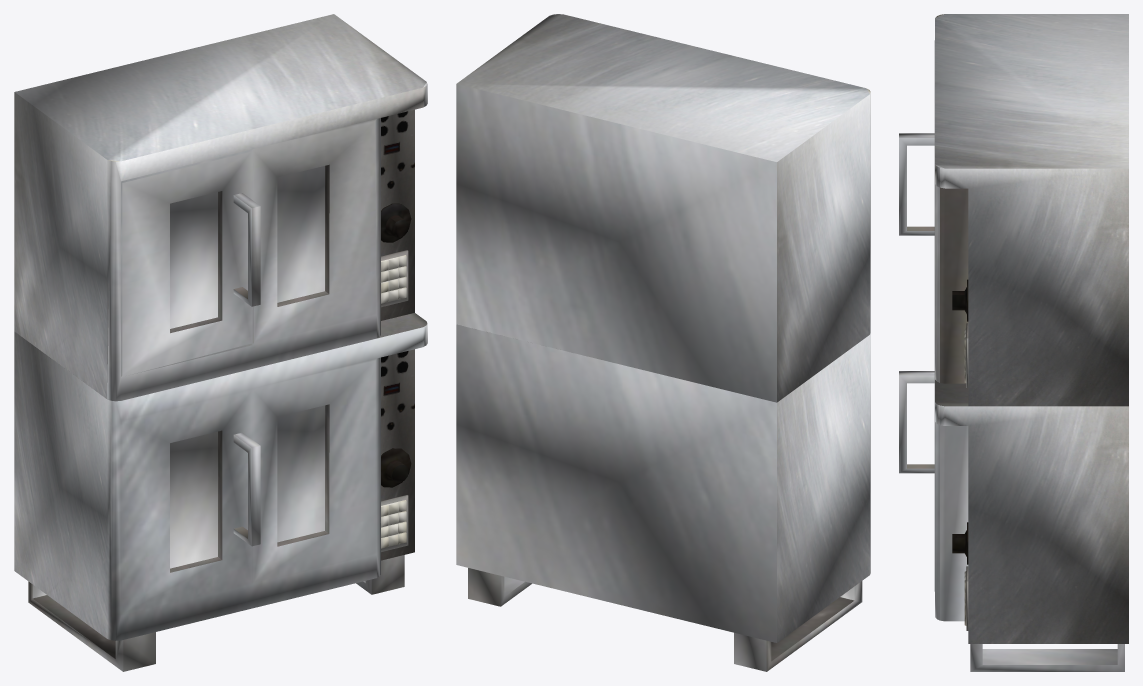
The model's file is Oven_Galley.obj.
The picture shows the model from 3 angles, left to right: view 1: azimuth 30°, elevation 25°; view 2: azimuth 150°, elevation 25°; view 3: azimuth 270°, elevation 25°; orthographic projection.
Visible parts, largest first — view 1: Oven_Galley.obj; view 2: Oven_Galley.obj; view 3: Oven_Galley.obj.
Part boxes in pixels (x1,y1,x2,y2): Oven_Galley.obj: [14, 14, 427, 671]; Oven_Galley.obj: [456, 14, 870, 671]; Oven_Galley.obj: [899, 14, 1128, 671].
Bounding box in the file's own units: 8.51 × 13.02 × 5.34.
